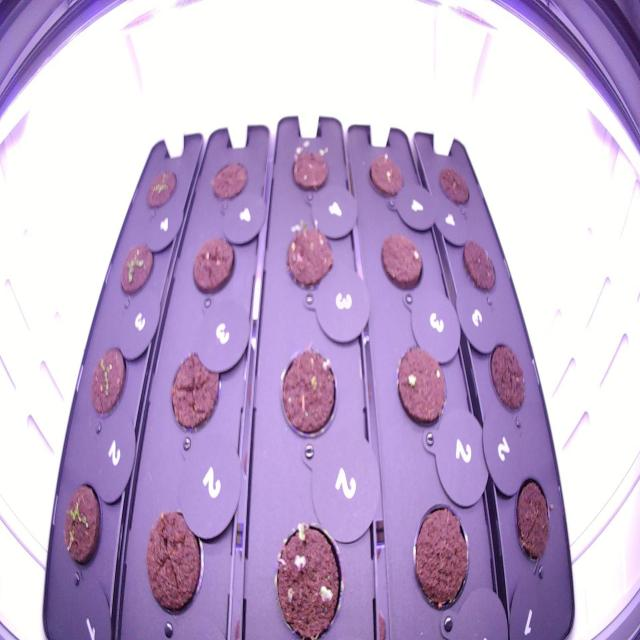germination: (264, 512, 349, 637), (272, 338, 341, 448), (388, 338, 452, 429), (56, 470, 106, 578), (280, 210, 336, 297), (375, 226, 428, 301), (86, 337, 132, 423), (280, 133, 334, 204), (361, 145, 408, 207), (114, 237, 156, 303), (140, 161, 180, 216)
pod: (406, 494, 474, 625), (142, 498, 210, 625), (162, 342, 225, 442), (508, 467, 557, 572), (484, 332, 532, 422), (186, 230, 240, 301), (457, 232, 501, 302), (205, 153, 252, 209), (433, 158, 474, 216)
